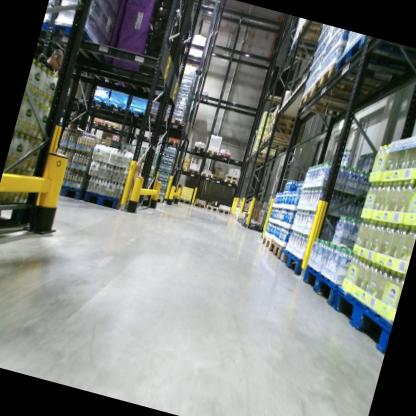pallet: (328, 31, 416, 97), (322, 280, 400, 354), (307, 56, 377, 116), (36, 15, 111, 68), (295, 81, 368, 129), (0, 187, 41, 244), (296, 263, 342, 307), (81, 188, 132, 216), (286, 33, 324, 63), (295, 18, 329, 49), (270, 104, 308, 128), (266, 117, 302, 141), (277, 245, 306, 274), (268, 113, 305, 133), (182, 47, 209, 73), (54, 181, 87, 201), (266, 123, 299, 142), (265, 131, 298, 149), (267, 238, 286, 261), (240, 218, 267, 233), (162, 113, 186, 129), (105, 98, 130, 113), (192, 145, 220, 158), (259, 137, 287, 150), (164, 135, 188, 150), (143, 109, 168, 123), (258, 232, 275, 252), (262, 91, 284, 106), (250, 149, 273, 163), (147, 193, 168, 206), (127, 105, 148, 118), (101, 119, 123, 131), (205, 199, 221, 213), (89, 94, 109, 105), (192, 196, 208, 208), (217, 150, 232, 161), (177, 196, 193, 206), (210, 173, 225, 183), (223, 177, 239, 186), (225, 172, 239, 182), (185, 167, 200, 176), (217, 206, 232, 215), (199, 171, 213, 180), (90, 118, 105, 126), (237, 217, 245, 227), (236, 216, 240, 223)
